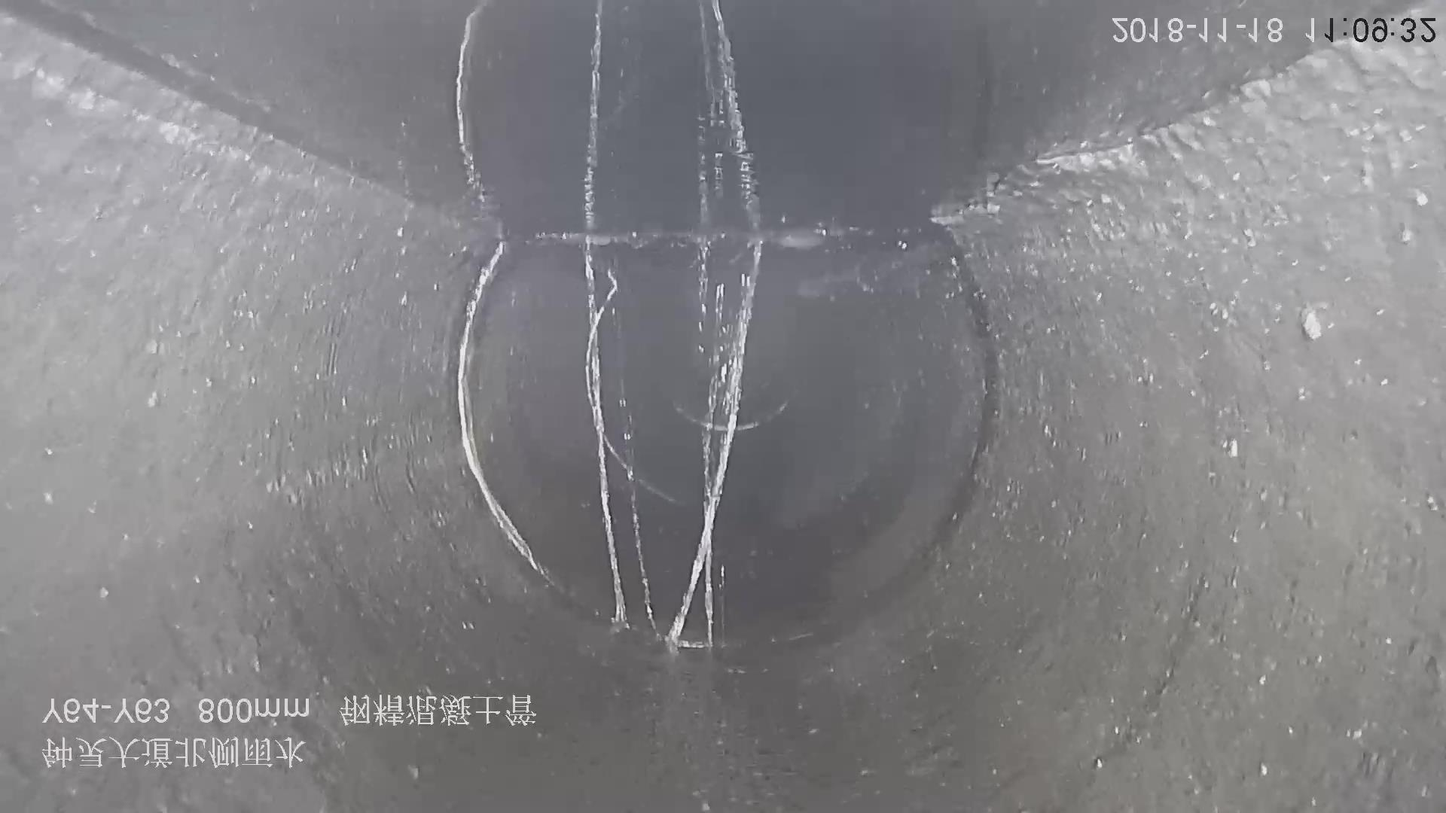CKTJ: (442, 233, 568, 599)
SL: (572, 214, 790, 652)
